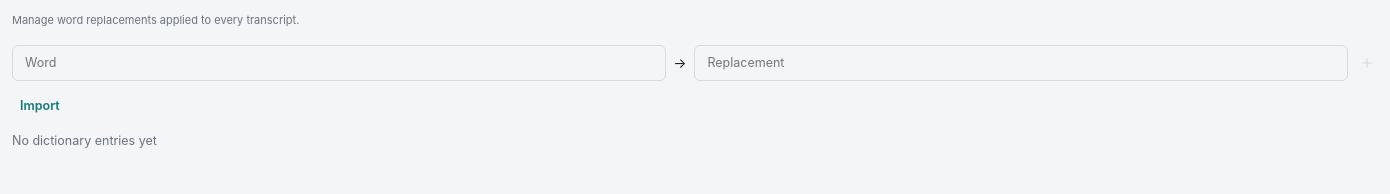
Scenario: DictionarySection › Import picks a file (via the Rust-driven dialog) and refreshes the list
Expected: the text "No dictionary entries yet" is shown, [12,133,157,148]
Click the button "Import" at coordinates (40, 107), box [12,93,68,120]
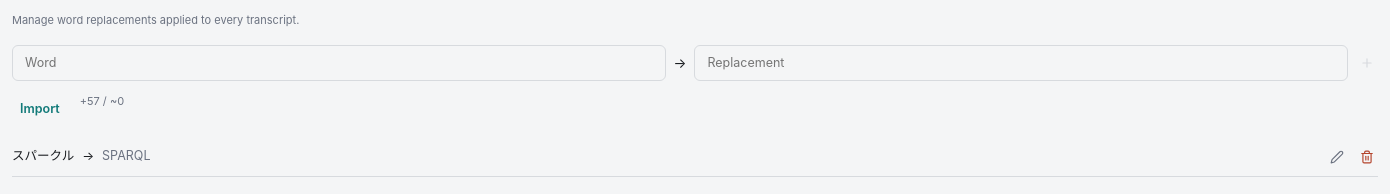
Expected: the text "スパークル" is shown, [12,147,74,166]
Expected: the text "+57 / ~0" is shown, [80,93,124,110]
